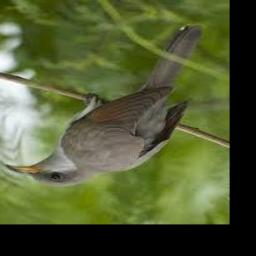Cuckoo: (6, 26, 203, 187)
